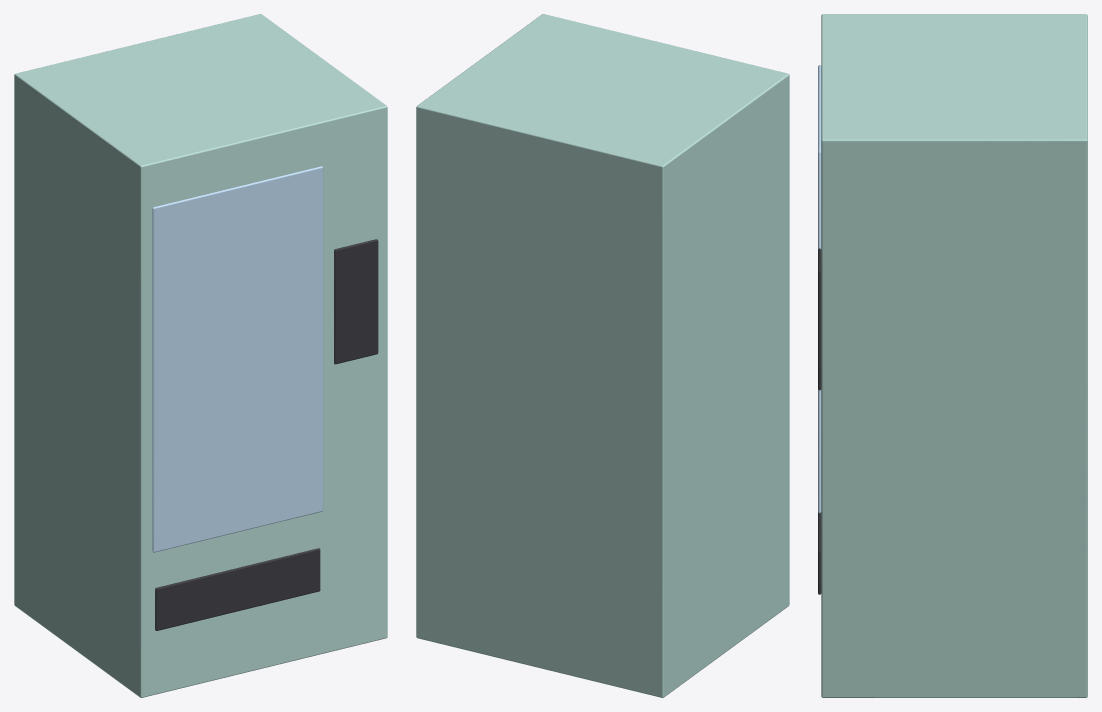
Rendered from SM_VendingMachine.fbx.
The picture shows the model from 3 angles, left to right: view 1: azimuth 30°, elevation 25°; view 2: azimuth 150°, elevation 25°; view 3: azimuth 270°, elevation 25°; orthographic projection. The views are drawn at different scales.
Parts seen in each view (by area): view 1: SM_VendingMachine; view 2: SM_VendingMachine; view 3: SM_VendingMachine.
Part boxes in pixels (x1,y1,x2,y2): SM_VendingMachine: (14, 14, 387, 697); SM_VendingMachine: (416, 14, 789, 697); SM_VendingMachine: (818, 14, 1087, 697).
Size of the model in its own units: 0.9 by 1.85 by 0.81.
